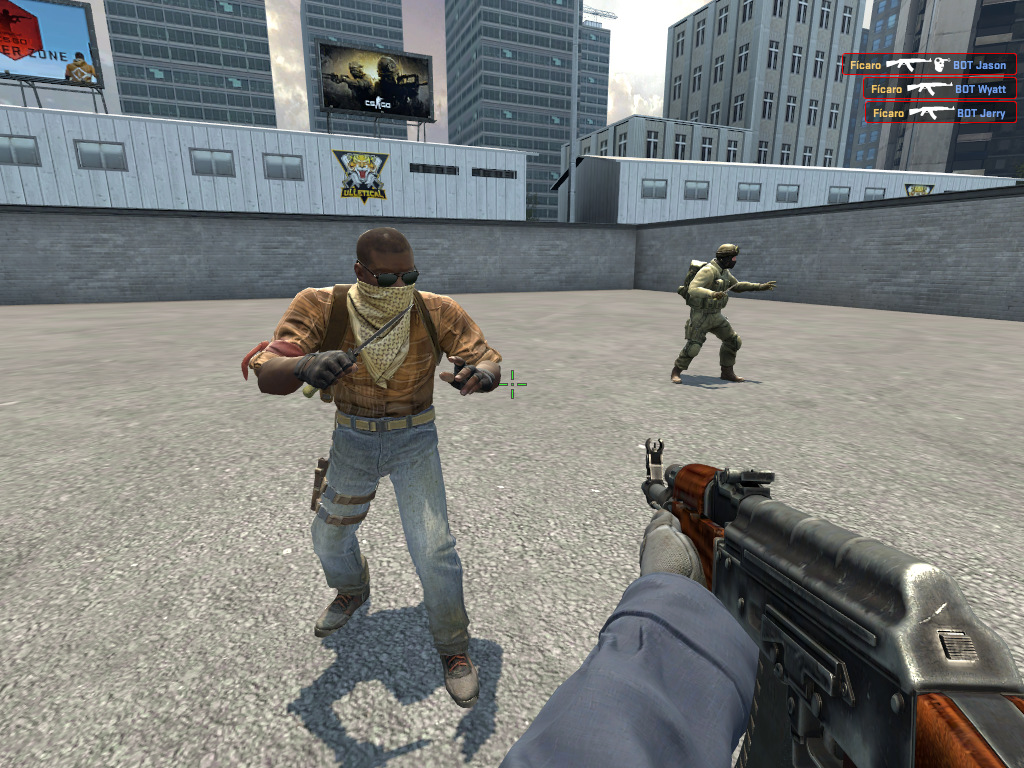ct head: (712, 241, 745, 273)
tr head: (348, 227, 425, 324)
